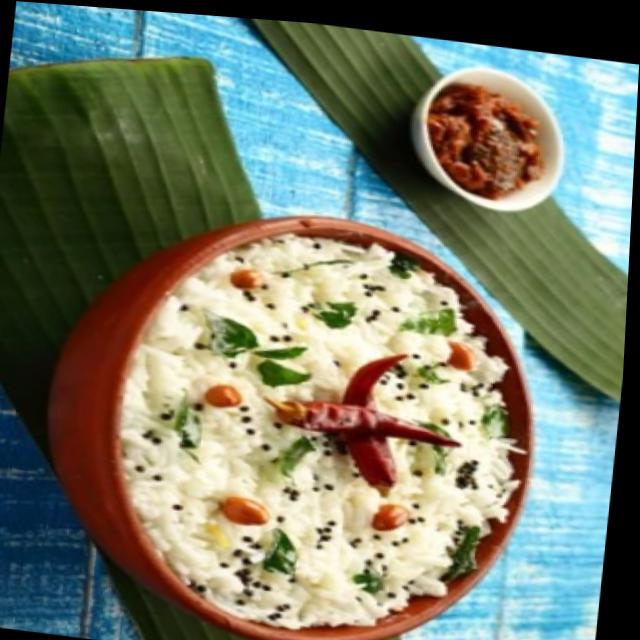CURD RICE: (120, 237, 527, 634)
PICKLE: (427, 82, 547, 197)
